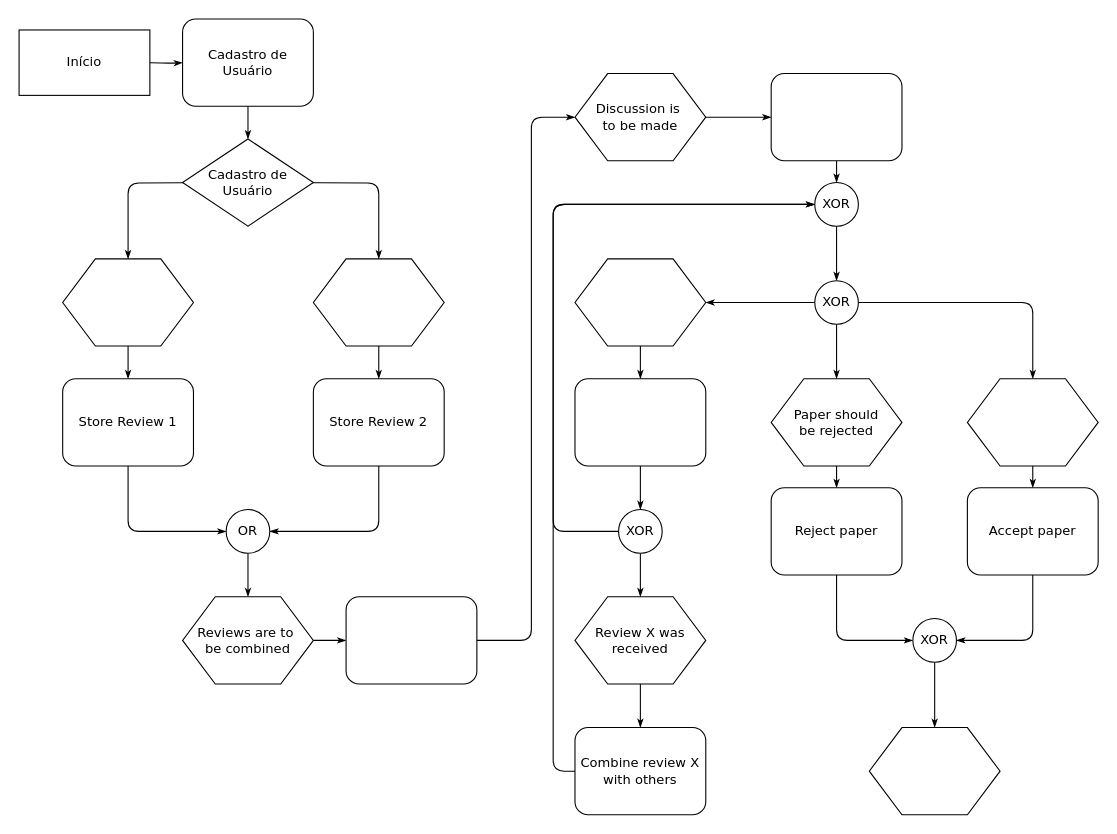
The diagram is 1117 pixels wide and 834 high, and some of its shapes have lost their labels. Here are the shapes that lost their labels. From the top down, the centre of each, then its label:
At point 836,116: "Decide on acceptance".
At point 127,302: "Review 1 received".
At point 378,302: "Review 2 received".
At point 640,302: "Additional review is needed".
At point 640,422: "Invite additional reviewer".
At point 1032,422: "Paper should be accepted".
At point 411,640: "Combine reviews".
At point 934,770: "End".
